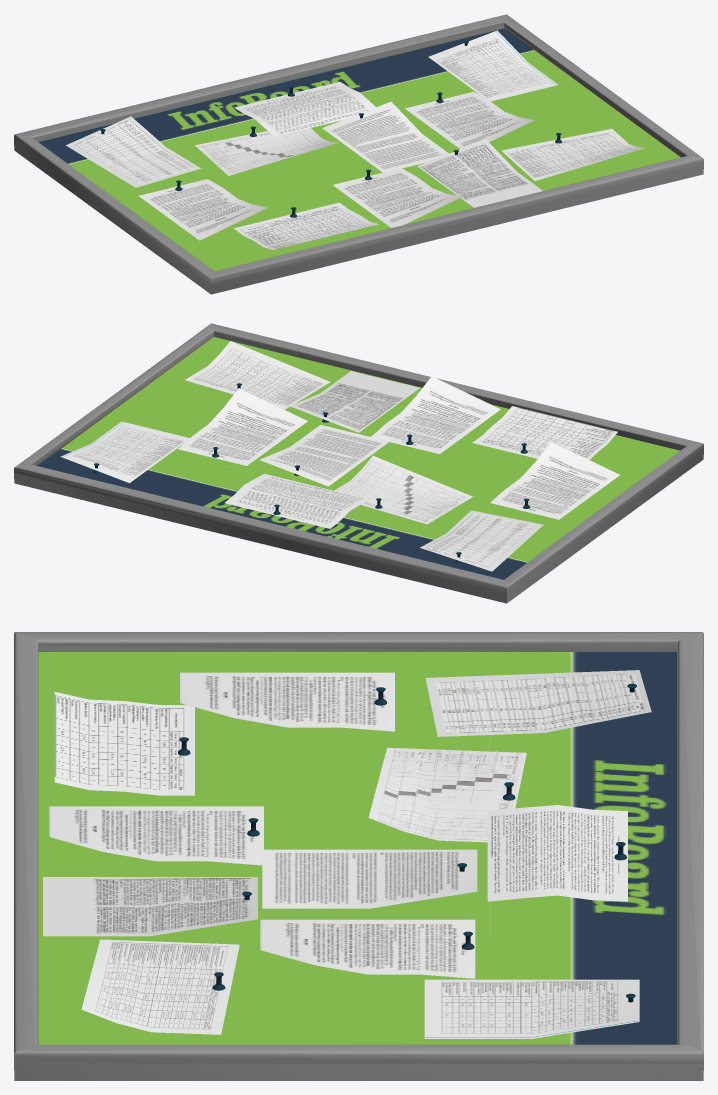
File: Poster05_1.FBX
3 views of the same model, one above another, from view 1: azimuth 30°, elevation 25°; view 2: azimuth 150°, elevation 25°; view 3: azimuth 270°, elevation 25° (orthographic). The views are drawn at different scales.
Visible parts, largest first — view 1: Poster05_1; view 2: Poster05_1; view 3: Poster05_1.
Boxes of the visible parts, bbox=[...] form: Poster05_1: bbox=[14, 14, 703, 294]; Poster05_1: bbox=[14, 323, 703, 603]; Poster05_1: bbox=[14, 632, 703, 1080].
Bounding box in the file's own units: 297 × 15.46 × 206.
